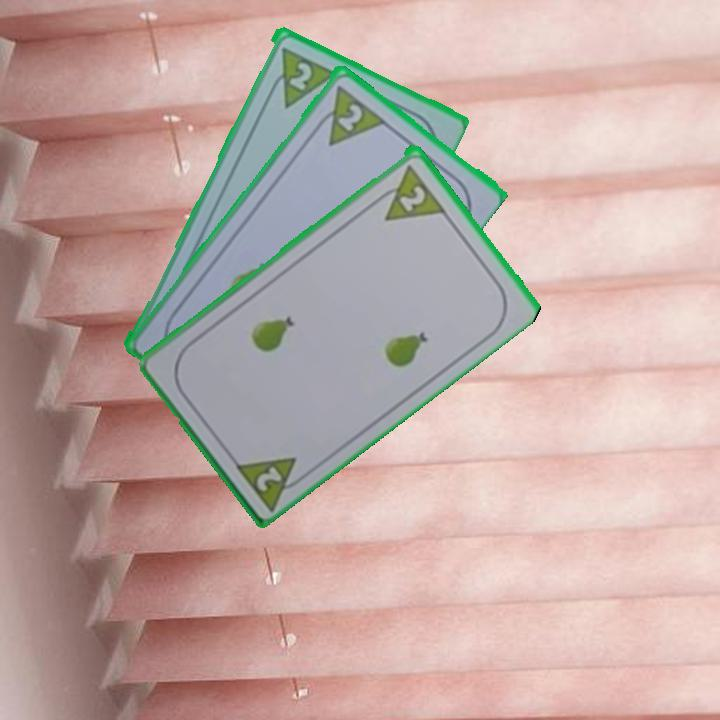2p: (369, 160, 447, 224), (230, 452, 311, 512), (334, 99, 366, 134), (285, 58, 315, 93)
